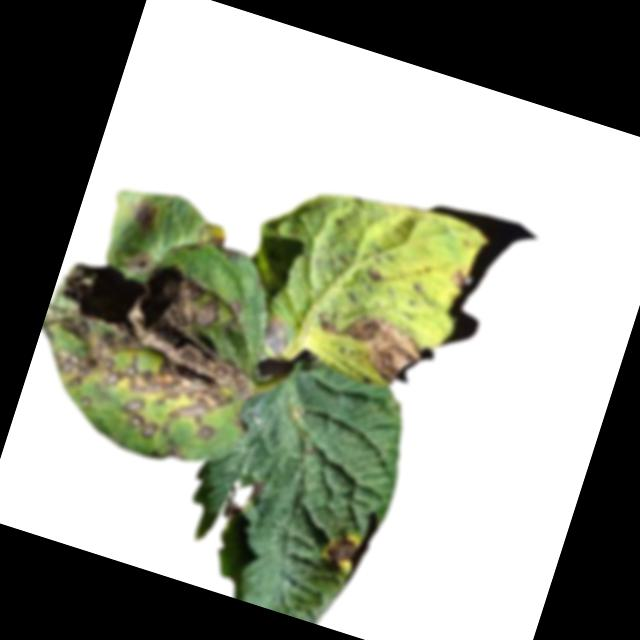Early_blight: (20, 236, 280, 463), (305, 297, 430, 389), (222, 471, 264, 527), (192, 222, 244, 262), (321, 527, 360, 570), (128, 197, 162, 231), (122, 245, 155, 278), (449, 266, 469, 289), (366, 265, 386, 284)
